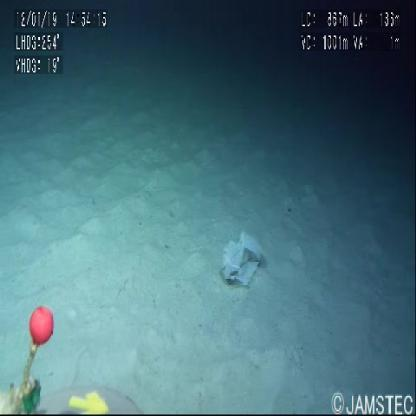Rác: (223, 233, 263, 289)
